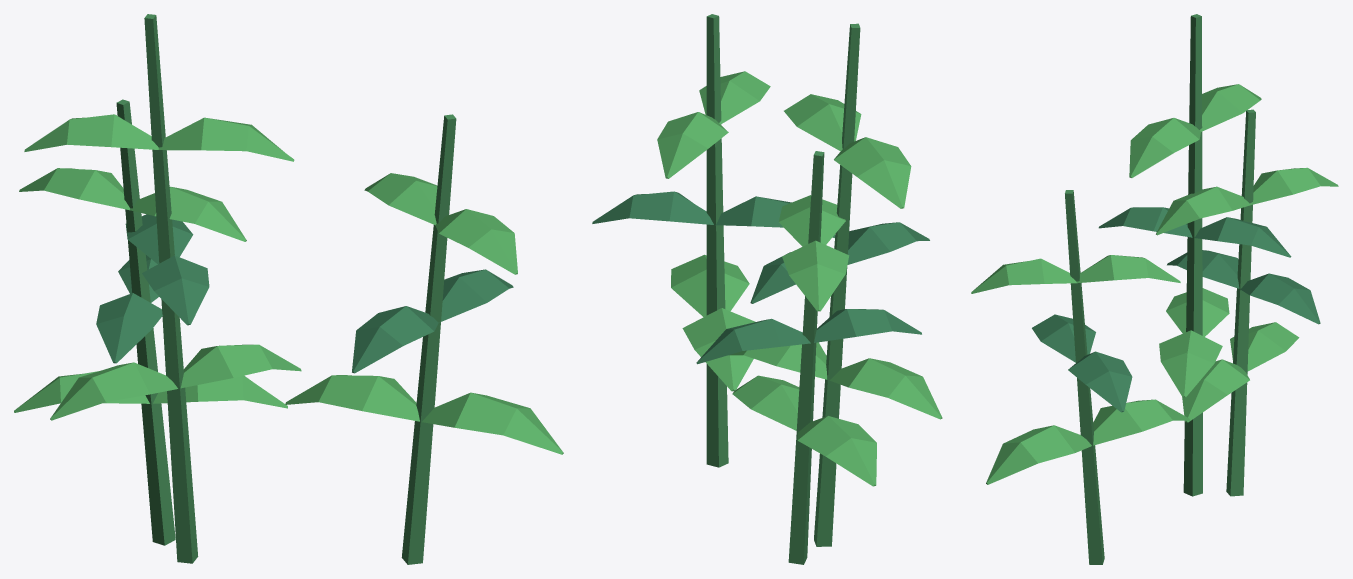
File: nettle_a.glb
3 views of the same model, side by side, from view 1: azimuth 30°, elevation 25°; view 2: azimuth 150°, elevation 25°; view 3: azimuth 270°, elevation 25° (orthographic). The views are drawn at different scales.
Parts seen in each view (by area): view 1: NettleA; view 2: NettleA; view 3: NettleA.
Part boxes in pixels (x1=…): NettleA: x1=14, y1=14, x2=563, y2=564; NettleA: x1=592, y1=14, x2=942, y2=564; NettleA: x1=971, y1=14, x2=1338, y2=564.
Size of the model in its own units: 0.705 by 0.8977 by 0.6451.
